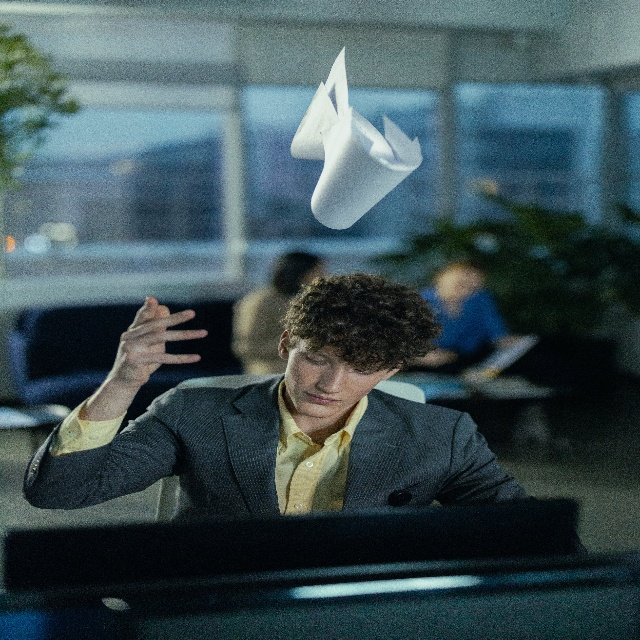Sin_guantes: (113, 295, 209, 390)
